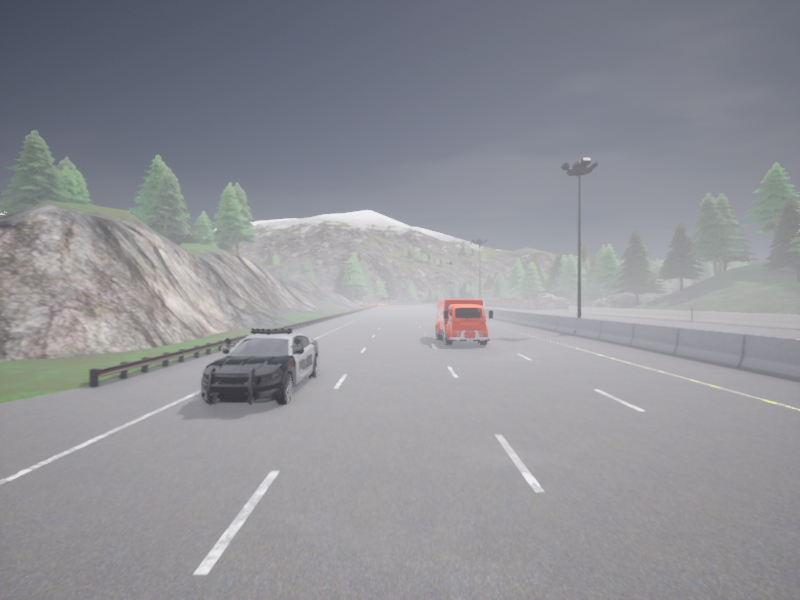vehicle: (201, 328, 318, 404), (435, 299, 492, 345)
